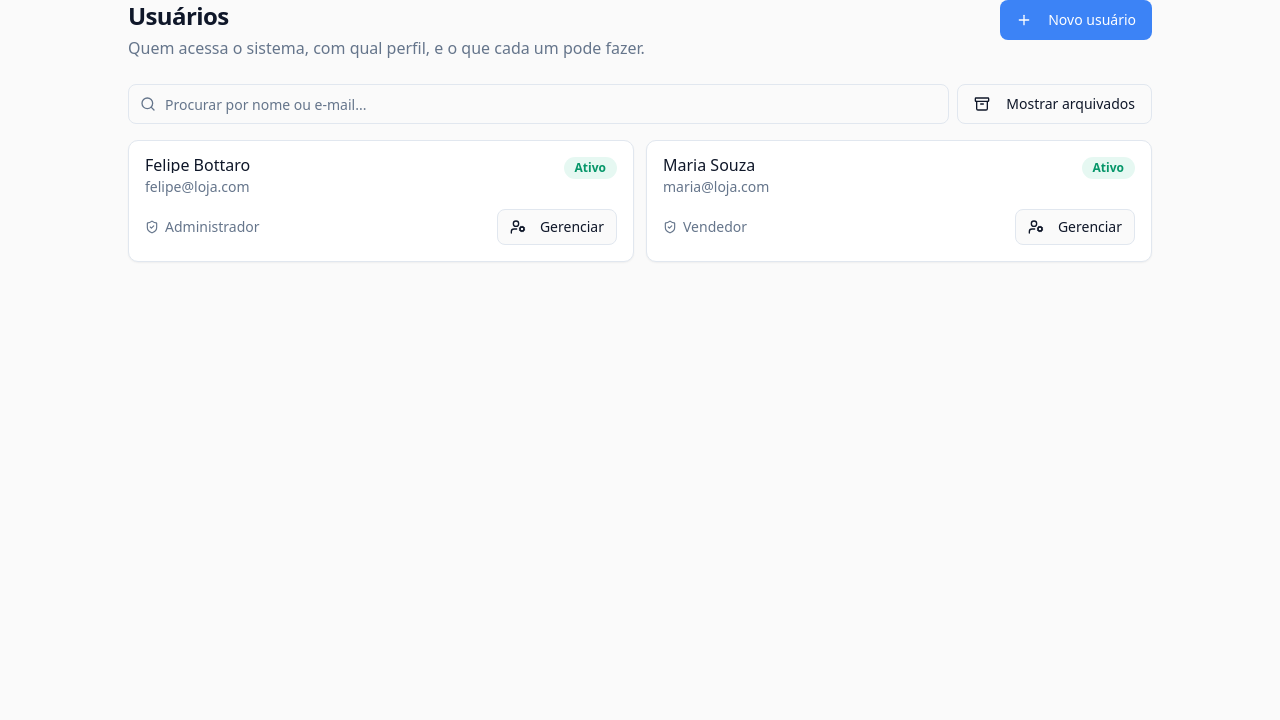
Ficha do usuário: exceções de permissão › quem só gerencia usuários vê as caixinhas, mas travadas, e a tela diz por quê
Click the button "Gerenciar" in the row of "Vendedor": (1075, 227) [1015, 209, 1135, 245]
(page scrolled)
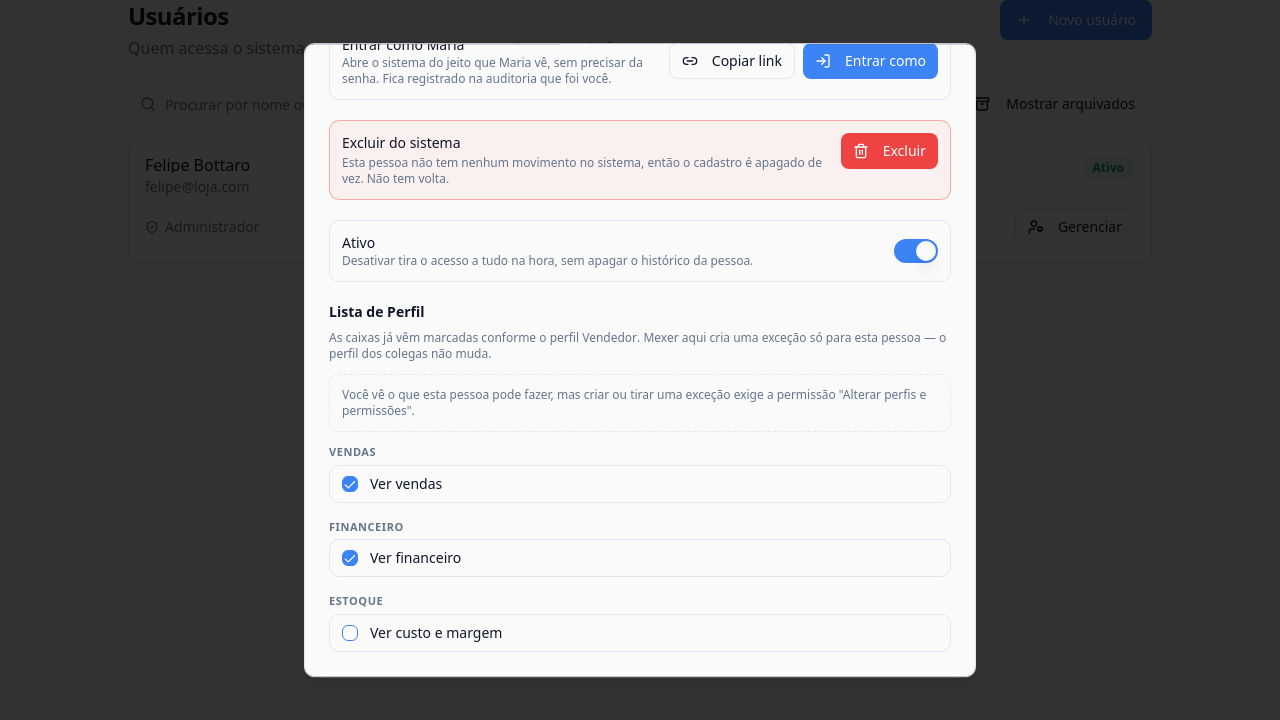
Check: the text "Ver vendas" is shown, box [370, 474, 442, 493]
Check: the number of checkboxes is 3, box [342, 476, 358, 492]; [342, 550, 358, 566]; [342, 625, 358, 641]
Check: the checkbox next to "Ver vendas" is disabled, box [342, 476, 358, 492]
